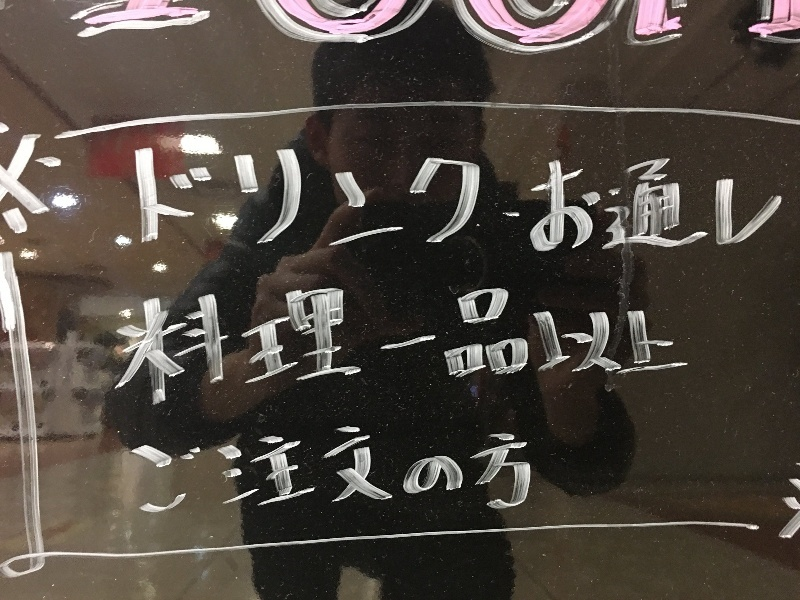text: (113, 284, 128, 426), (129, 284, 144, 426), (145, 284, 160, 426), (161, 284, 176, 426), (177, 284, 192, 426), (193, 284, 208, 426), (209, 284, 224, 426), (225, 284, 240, 426), (241, 284, 256, 426), (257, 284, 272, 426), (273, 284, 288, 426), (289, 284, 304, 426), (305, 284, 320, 426), (321, 284, 336, 426), (337, 284, 352, 426), (353, 284, 368, 426), (369, 284, 384, 426), (385, 284, 400, 426), (401, 284, 416, 426), (417, 284, 432, 426), (433, 284, 448, 426), (449, 284, 464, 426), (465, 284, 480, 426), (481, 284, 496, 426), (497, 284, 512, 426), (513, 284, 528, 426), (529, 284, 544, 426), (545, 284, 560, 426), (561, 284, 576, 426), (577, 284, 592, 426), (593, 284, 608, 426), (609, 284, 624, 426), (625, 284, 640, 426), (641, 284, 656, 426), (657, 284, 672, 426), (673, 284, 688, 426), (145, 150, 160, 251), (161, 150, 176, 251), (177, 150, 192, 251), (193, 150, 208, 251), (209, 150, 224, 251), (225, 150, 240, 251), (241, 150, 256, 251), (257, 150, 272, 251), (273, 150, 288, 251), (289, 150, 304, 251), (305, 150, 320, 251), (321, 150, 336, 251), (337, 150, 352, 251), (353, 150, 368, 251), (369, 150, 384, 251), (385, 150, 400, 251), (401, 150, 416, 251), (417, 150, 432, 251), (433, 150, 448, 251), (449, 150, 464, 251), (465, 150, 480, 251), (481, 150, 496, 251), (497, 150, 512, 251), (513, 150, 528, 251), (529, 150, 544, 251), (545, 150, 560, 251), (561, 150, 576, 251), (577, 150, 592, 251), (593, 150, 608, 251), (609, 150, 624, 251), (625, 150, 640, 251), (641, 150, 656, 251), (657, 150, 672, 251), (673, 150, 688, 251), (689, 150, 704, 251), (705, 150, 720, 251), (721, 150, 736, 251), (737, 150, 752, 251), (753, 150, 768, 251), (769, 150, 784, 251), (129, 422, 144, 518), (145, 422, 160, 518), (161, 422, 176, 518), (177, 422, 192, 518), (193, 422, 208, 518), (209, 422, 224, 518), (225, 422, 240, 518), (241, 422, 256, 518), (257, 422, 272, 518), (273, 422, 288, 518), (289, 422, 304, 518), (305, 422, 320, 518), (321, 422, 336, 518), (337, 422, 352, 518), (353, 422, 368, 518), (369, 422, 384, 518), (385, 422, 400, 518), (401, 422, 416, 518), (417, 422, 432, 518), (433, 422, 448, 518), (449, 422, 464, 518), (465, 422, 480, 518), (481, 422, 496, 518), (497, 422, 512, 518), (513, 422, 528, 518), (133, 150, 144, 251), (785, 150, 796, 251), (81, 1, 96, 66), (97, 1, 112, 66), (113, 1, 128, 66), (129, 1, 144, 66), (145, 1, 160, 66), (161, 1, 176, 66), (177, 1, 192, 66), (193, 1, 208, 66), (209, 1, 224, 66), (225, 1, 240, 66), (241, 1, 256, 66), (257, 1, 272, 66), (273, 1, 288, 66), (289, 1, 304, 66), (305, 1, 320, 66), (321, 1, 336, 66), (337, 1, 352, 66), (353, 1, 368, 66), (369, 1, 384, 66), (385, 1, 400, 66), (401, 1, 416, 66), (417, 1, 432, 66), (433, 1, 448, 66), (449, 1, 464, 66), (465, 1, 480, 66), (481, 1, 496, 66), (497, 1, 512, 66), (513, 1, 528, 66), (529, 1, 544, 66), (545, 1, 560, 66), (561, 1, 576, 66), (577, 1, 592, 66), (593, 1, 608, 66), (609, 1, 624, 66), (625, 1, 640, 66), (641, 1, 656, 66), (657, 1, 672, 66), (673, 1, 688, 66), (689, 1, 704, 66), (705, 1, 720, 66), (721, 1, 736, 66), (737, 1, 752, 66), (753, 1, 768, 66), (769, 1, 784, 66), (785, 1, 800, 66), (529, 422, 539, 518), (69, 1, 80, 66), (689, 284, 692, 426), (111, 284, 112, 426)
